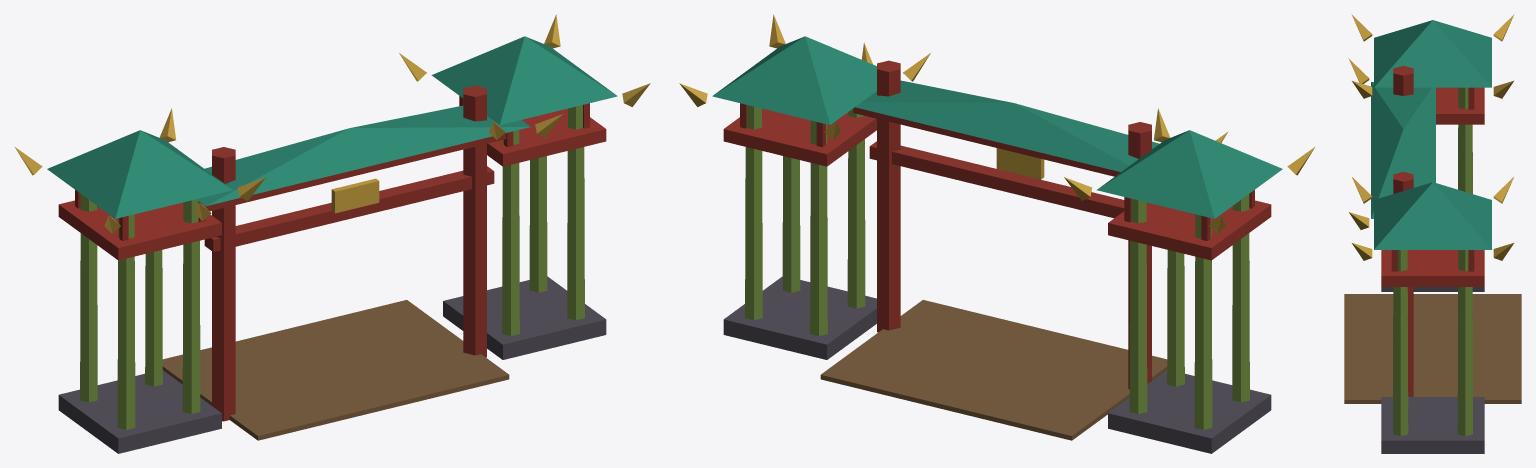
The model's file is gate_t1.glb.
The picture shows the model from 3 angles, left to right: view 1: azimuth 30°, elevation 25°; view 2: azimuth 150°, elevation 25°; view 3: azimuth 270°, elevation 25°; orthographic projection. The views are drawn at different scales.
Parts seen in each view (by area): view 1: body; view 2: body; view 3: body.
Part boxes in pixels (left/top/right/bottom): body: left=15, top=14, right=650, bottom=453; body: left=679, top=14, right=1314, bottom=453; body: left=1344, top=14, right=1521, bottom=453.
Bounding box in the file's own units: 3.67 × 1.87 × 1.2.
